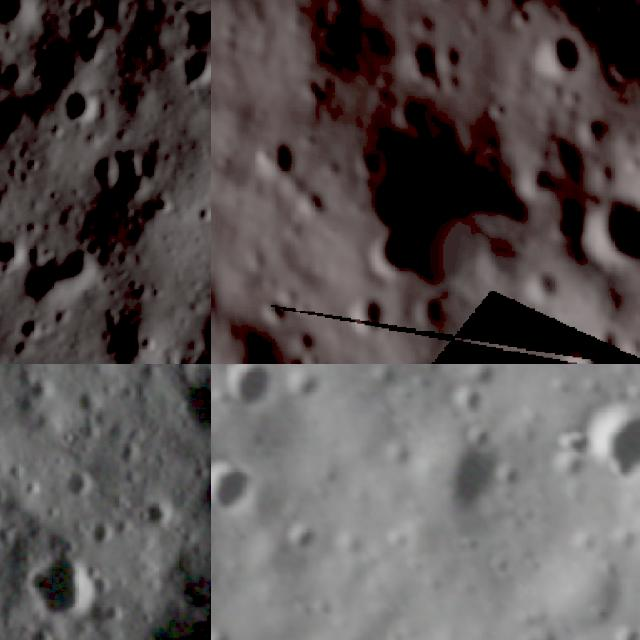crater: (356, 159, 524, 293), (15, 527, 123, 634), (575, 392, 640, 480), (575, 191, 640, 274), (435, 445, 501, 519), (216, 364, 284, 421), (211, 444, 260, 523), (51, 78, 110, 138), (130, 484, 191, 540), (169, 366, 211, 445), (343, 290, 399, 344), (50, 458, 106, 512), (364, 228, 418, 283), (525, 32, 581, 82), (550, 330, 629, 364), (313, 12, 361, 61), (81, 507, 124, 556), (68, 377, 113, 423), (600, 40, 640, 91), (258, 137, 304, 181), (257, 283, 299, 331), (545, 202, 592, 244), (170, 2, 211, 50), (385, 87, 425, 135), (447, 384, 498, 421), (546, 127, 582, 178), (19, 364, 65, 403), (514, 156, 556, 198), (290, 185, 333, 226), (345, 142, 385, 184), (0, 228, 34, 277), (413, 288, 450, 326), (520, 263, 562, 295), (578, 111, 610, 144), (287, 323, 323, 352), (609, 609, 640, 640), (485, 95, 511, 122), (512, 2, 538, 28), (587, 25, 609, 53), (298, 343, 324, 364), (390, 351, 431, 364)
